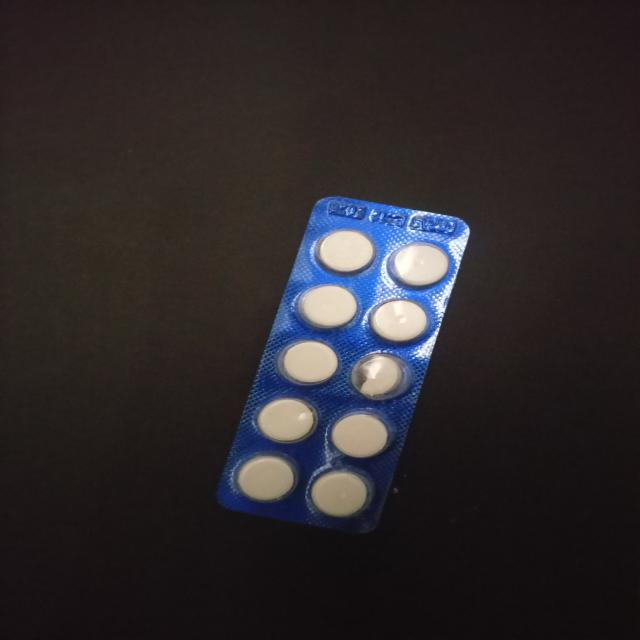defect: (347, 349, 415, 404)
